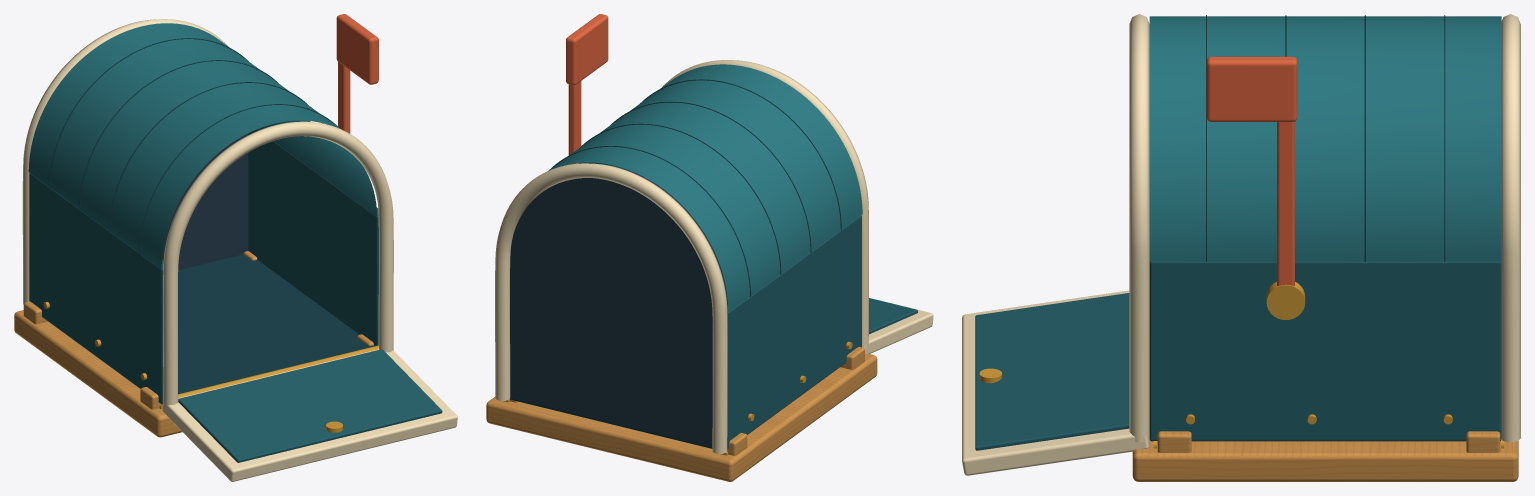
The model's file is mail-mailbox.glb.
The picture shows the model from 3 angles, left to right: view 1: azimuth 30°, elevation 25°; view 2: azimuth 150°, elevation 25°; view 3: azimuth 270°, elevation 25°; orthographic projection. The views are drawn at different scales.
Parts seen in each view (by area): view 1: Mailbox_Smooth_Roof, Mailbox_Side_-0.145, Mailbox_Side_0.145, Mailbox_Interior_Floor, Mailbox_Loading_Door_Inset, Mailbox_Cream_Arch_0.164, Mailbox_Loading_Door_Rim, Mailbox_Back, Mailbox_Wood_Base, Mailbox_Cream_Arch_-0.163, Mailbox_Flag_Panel, Mailbox_Door_Hinge (+1 smaller); view 2: Mailbox_Back, Mailbox_Smooth_Roof, Mailbox_Side_-0.145, Mailbox_Wood_Base, Mailbox_Cream_Arch_-0.163, Mailbox_Cream_Arch_0.164, Mailbox_Flag_Panel, Mailbox_Loading_Door_Rim, Mailbox_Loading_Door_Inset, Mailbox_Flag_Stem, Mailbox_Interior_Floor; view 3: Mailbox_Smooth_Roof, Mailbox_Side_0.145, Mailbox_Loading_Door_Inset, Mailbox_Wood_Base, Mailbox_Cream_Arch_0.164, Mailbox_Cream_Arch_-0.163, Mailbox_Loading_Door_Rim, Mailbox_Flag_Panel, Mailbox_Flag_Stem, Mailbox_Flag_Pivot, Mailbox_Corner_Bracket_0.146_-0.139, Mailbox_Corner_Bracket_0.146_0.133.
Boxes of the visible parts, x1,y1,x2,y2 form: Mailbox_Smooth_Roof: [28, 23, 376, 268]; Mailbox_Side_-0.145: [29, 173, 163, 404]; Mailbox_Side_0.145: [248, 129, 378, 345]; Mailbox_Interior_Floor: [178, 254, 374, 394]; Mailbox_Loading_Door_Inset: [178, 349, 442, 462]; Mailbox_Cream_Arch_0.164: [163, 121, 393, 409]; Mailbox_Loading_Door_Rim: [162, 349, 457, 481]; Mailbox_Back: [162, 133, 248, 270]; Mailbox_Wood_Base: [14, 310, 182, 437]; Mailbox_Cream_Arch_-0.163: [22, 19, 227, 304]; Mailbox_Flag_Panel: [336, 14, 378, 84]; Mailbox_Door_Hinge: [178, 345, 378, 397]; Mailbox_Back: [510, 169, 727, 446]; Mailbox_Smooth_Roof: [548, 64, 862, 311]; Mailbox_Side_-0.145: [727, 215, 861, 448]; Mailbox_Wood_Base: [486, 353, 877, 481]; Mailbox_Cream_Arch_-0.163: [495, 163, 727, 453]; Mailbox_Cream_Arch_0.164: [645, 60, 868, 349]; Mailbox_Flag_Panel: [566, 14, 608, 85]; Mailbox_Loading_Door_Rim: [863, 306, 933, 355]; Mailbox_Loading_Door_Inset: [724, 281, 917, 334]; Mailbox_Flag_Stem: [568, 81, 581, 164]; Mailbox_Interior_Floor: [510, 397, 712, 448]; Mailbox_Smooth_Roof: [1149, 16, 1501, 261]; Mailbox_Side_0.145: [1149, 261, 1501, 440]; Mailbox_Loading_Door_Inset: [975, 293, 1129, 450]; Mailbox_Wood_Base: [1132, 439, 1518, 481]; Mailbox_Cream_Arch_0.164: [1129, 14, 1149, 442]; Mailbox_Cream_Arch_-0.163: [1501, 14, 1520, 442]; Mailbox_Loading_Door_Rim: [962, 290, 1148, 475]; Mailbox_Flag_Panel: [1206, 56, 1297, 121]; Mailbox_Flag_Stem: [1277, 121, 1294, 285]; Mailbox_Flag_Pivot: [1266, 281, 1305, 319]; Mailbox_Corner_Bracket_0.146_-0.139: [1466, 431, 1500, 452]; Mailbox_Corner_Bracket_0.146_0.133: [1157, 431, 1191, 452].
Bounding box in the file's own units: 0.336 × 0.413 × 0.4923.
8 materials, 1 textured.
